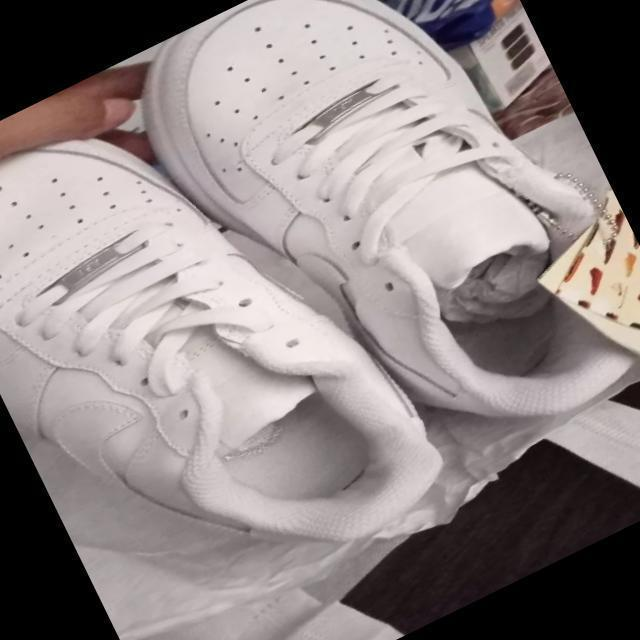nike fake air force: (108, 0, 640, 531), (0, 40, 462, 640)
